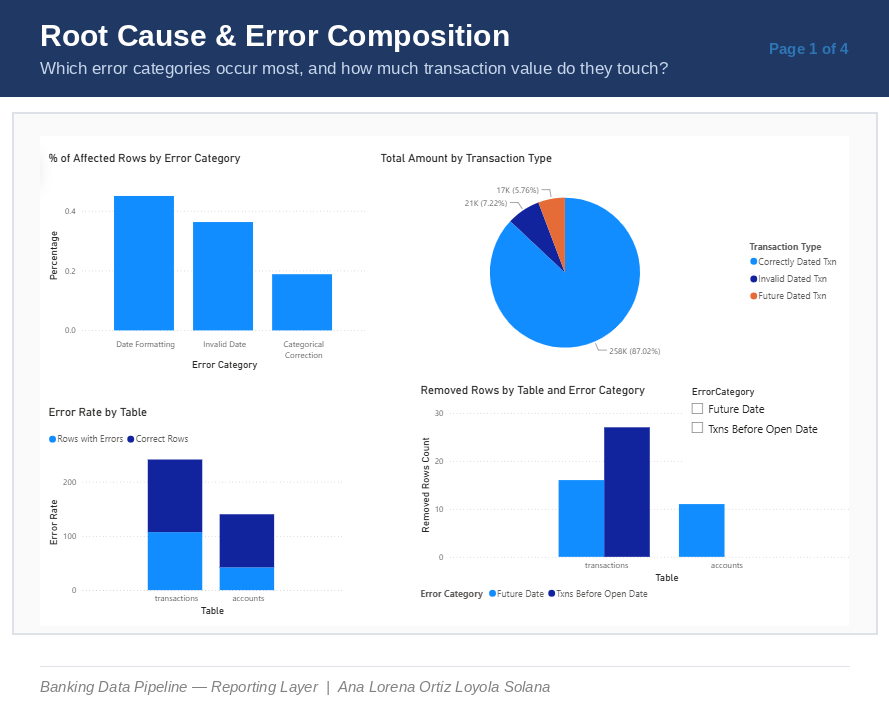

The page's visual inventory and layout, read from the dashboard file:
{"tool":"powerbi","page":{"name":"Página 2","canvas":[1280,720],"ordinal":0},"visuals":[{"type":"clusteredColumnChart","title":"% of Affected Rows by Error Category","fields":{"Category":["CategorySummary.ReasonCategory"],"Y":["Sum(CategorySummary.PctOfAll)"]},"box":[42.4,19,478.5,327.8],"z":0},{"type":"columnChart","title":"Error Rate by Table","fields":{"Category":["ErrorsByTable.table_name"],"Y":["Sum(ErrorsByTable.ErrorsPerTable)","Sum(ErrorsByTable.ValidRows)"]},"box":[42.9,392.2,441.6,315.6],"z":1000},{"type":"pieChart","title":"Total Amount by Transaction Type","fields":{"Category":["transactionsAllTransactions.Status"],"Y":["Sum(transactionsAllTransactions.Amount)"]},"box":[531.2,19,690.7,327.8],"z":2000},{"type":"clusteredColumnChart","title":"Removed Rows by Table and  Error Category","fields":{"Category":["RemovedRowsByReason.TableName"],"Series":["RemovedRowsByReason.ErrorCategory"],"Y":["Sum(RemovedRowsByReason.RemovedCount)"]},"box":[590.3,359.7,691,328],"z":3000},{"type":"slicer","fields":{"Values":["RemovedRowsByReason.ErrorCategory"]},"box":[980.6,359.7,300,120.8],"z":4000}]}

Visuals, with their boxes on the page's 1280x720 design canvas (x1, y1, x2, y2). These are canvas units, not pixel positions in the 889x712 screenshot, which may show the page scaled, cropped or inside an application window:
"% of Affected Rows by Error Category" clusteredColumnChart: 42,19,521,347
"Error Rate by Table" columnChart: 43,392,484,708
"Total Amount by Transaction Type" pieChart: 531,19,1222,347
"Removed Rows by Table and  Error Category" clusteredColumnChart: 590,360,1281,688
slicer - RemovedRowsByReason.ErrorCategory: 981,360,1281,480
